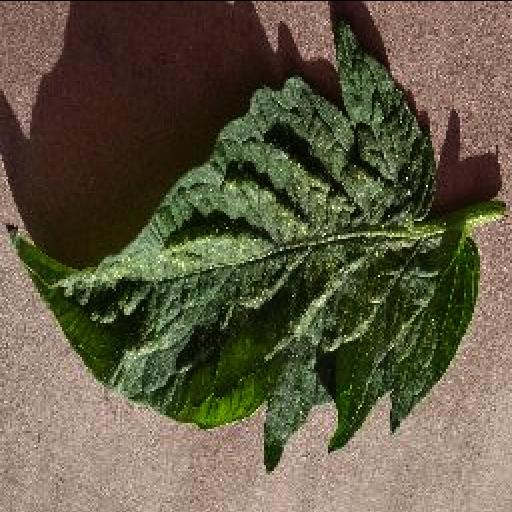disease_tomato: (6, 18, 484, 468)
